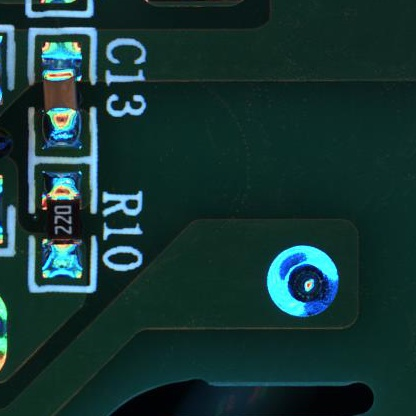spot: (259, 236, 349, 328)
